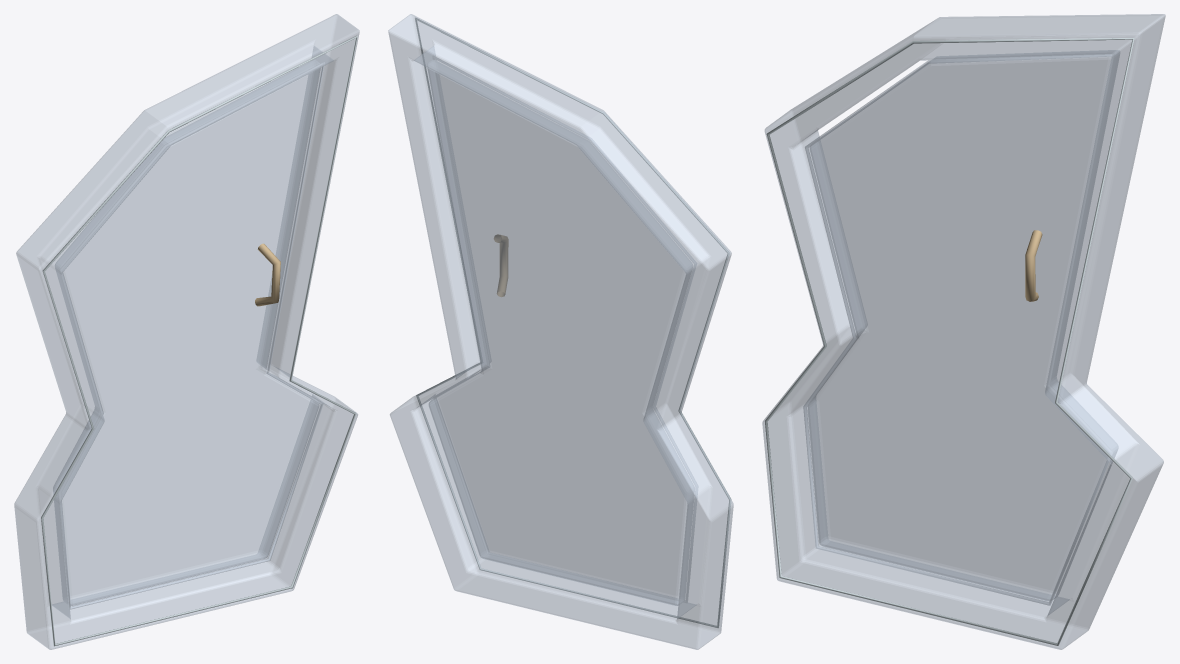
Rendered from fault.glb.
3 views of the same model, side by side, from view 1: azimuth 30°, elevation 25°; view 2: azimuth 150°, elevation 25°; view 3: azimuth 330°, elevation 25° (orthographic). The views are drawn at different scales.
Parts seen in each view (by area): view 1: Moving_GlassLeaf.002, Fixed_GlassFrame.002, Fixed_SilverSeam.002, Moving_PolishedEdge.002, Moving_Pull.002; view 2: Moving_GlassLeaf.002, Fixed_GlassFrame.002, Fixed_SilverSeam.002, Moving_PolishedEdge.002, Moving_Pull.002; view 3: Moving_GlassLeaf.002, Fixed_GlassFrame.002, Moving_PolishedEdge.002, Fixed_SilverSeam.002, Moving_Pull.002.
Part boxes in pixels (left/top/right/bottom): Moving_GlassLeaf.002: left=53, top=60, right=320, bottom=605; Fixed_GlassFrame.002: left=14, top=14, right=359, bottom=649; Fixed_SilverSeam.002: left=41, top=35, right=357, bottom=646; Moving_PolishedEdge.002: left=58, top=62, right=324, bottom=609; Moving_Pull.002: left=255, top=243, right=280, bottom=306; Moving_GlassLeaf.002: left=427, top=60, right=694, bottom=605; Fixed_GlassFrame.002: left=388, top=14, right=733, bottom=649; Fixed_SilverSeam.002: left=415, top=18, right=731, bottom=627; Moving_PolishedEdge.002: left=432, top=56, right=698, bottom=602; Moving_Pull.002: left=494, top=234, right=508, bottom=296; Moving_GlassLeaf.002: left=807, top=50, right=1119, bottom=601; Fixed_GlassFrame.002: left=762, top=14, right=1165, bottom=649; Moving_PolishedEdge.002: left=803, top=54, right=1113, bottom=605; Fixed_SilverSeam.002: left=765, top=38, right=1134, bottom=645; Moving_Pull.002: left=1025, top=230, right=1042, bottom=301.
Size of the model in its own units: 2.04 by 3.28 by 0.3297.
